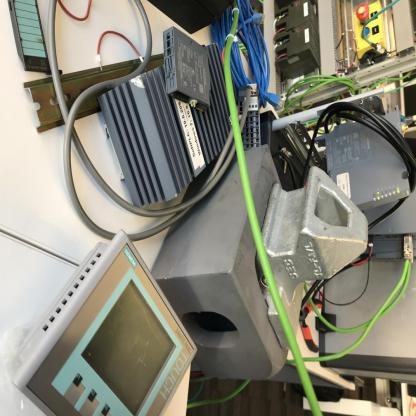CornerCasting: (155, 127, 285, 385)
Twistlock: (257, 157, 378, 354)
